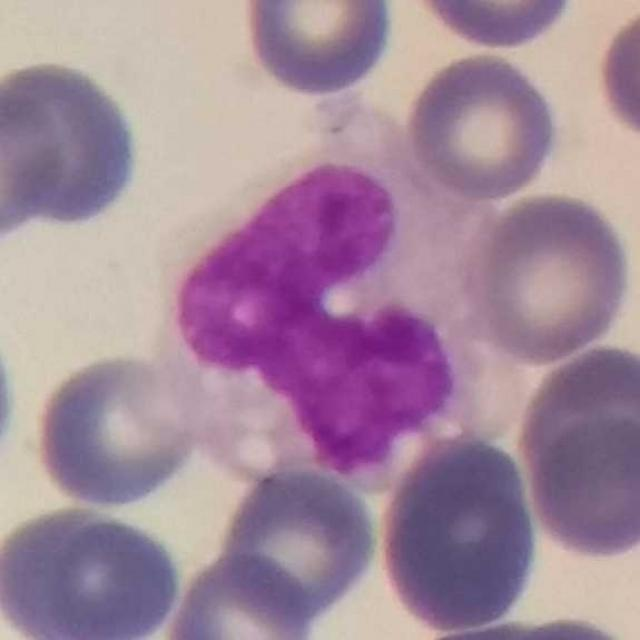mono: (148, 94, 533, 497)
